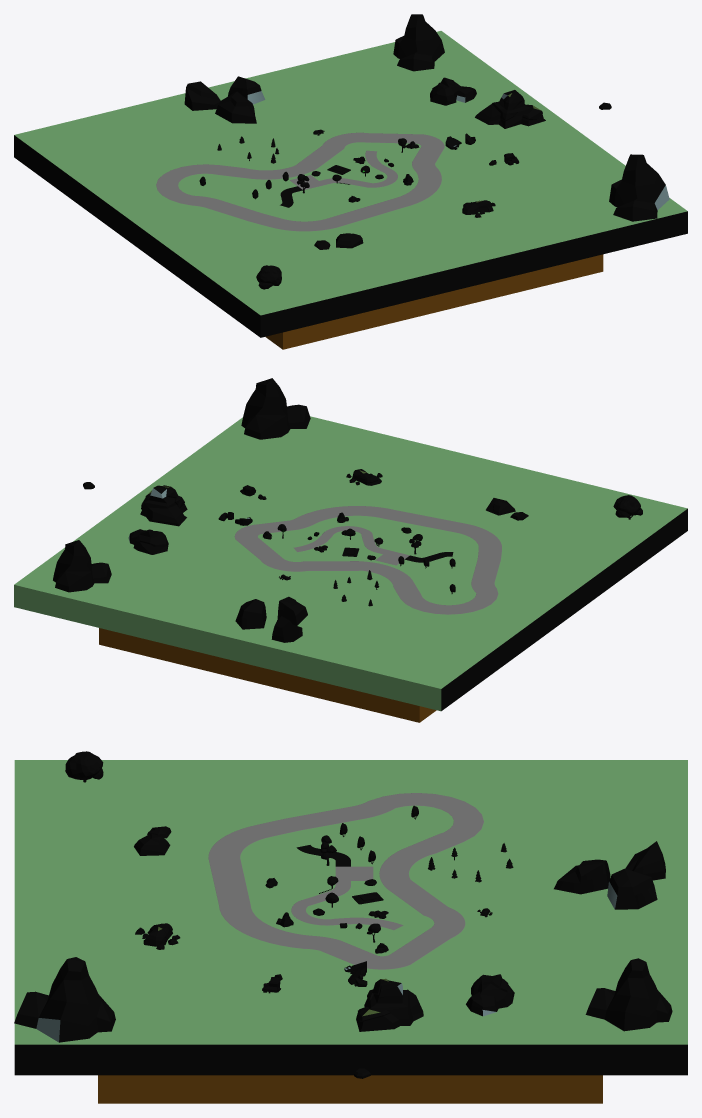
File: raceTrack.glb
3 renders of one model, top to bottom at view 1: azimuth 30°, elevation 25°; view 2: azimuth 150°, elevation 25°; view 3: azimuth 270°, elevation 25°, orthographic. The views are drawn at different scales.
Visible parts, largest first — view 1: Grass_Baked, racetrack_Baked, LowerGround_Baked, stone_7.003_Baked, stone_with_moss_4.001_Baked, stone_7.002_Baked, stone_with_moss_2.001_Baked, stone_with_moss_3.001_Baked, pits_Baked; view 2: Grass_Baked, racetrack_Baked, LowerGround_Baked, stone_7.003_Baked, stone_7.002_Baked, stone_with_moss_4.001_Baked, stone_with_moss_2.001_Baked, stone_with_moss_3.001_Baked, pits_Baked; view 3: Grass_Baked, LowerGround_Baked, racetrack_Baked, stone_7.003_Baked, stone_with_moss_4.001_Baked, stone_7.002_Baked, stone_with_moss_2.001_Baked, stone_with_moss_3.001_Baked, pits_Baked, tree3_Icosphere.007_Baked, stone_with_moss_5.001_Baked, stone_with_moss_6.001_Baked (+1 smaller).
Boxes of the visible parts, x1,y1,x2,y2 form: Grass_Baked: (14, 31, 687, 337); racetrack_Baked: (156, 132, 444, 231); LowerGround_Baked: (265, 254, 603, 349); stone_7.003_Baked: (609, 154, 669, 221); stone_with_moss_4.001_Baked: (184, 76, 265, 123); stone_7.002_Baked: (393, 14, 444, 71); stone_with_moss_2.001_Baked: (475, 90, 545, 128); stone_with_moss_3.001_Baked: (430, 77, 476, 105); pits_Baked: (319, 150, 397, 187); Grass_Baked: (14, 416, 687, 711); racetrack_Baked: (234, 506, 501, 614); LowerGround_Baked: (99, 628, 436, 722); stone_7.003_Baked: (241, 378, 310, 439); stone_7.002_Baked: (53, 540, 111, 592); stone_with_moss_4.001_Baked: (235, 596, 307, 642); stone_with_moss_2.001_Baked: (140, 485, 187, 526); stone_with_moss_3.001_Baked: (128, 529, 168, 554); pits_Baked: (293, 526, 388, 554); Grass_Baked: (14, 760, 687, 1075); LowerGround_Baked: (98, 1075, 602, 1103); racetrack_Baked: (208, 793, 483, 969); stone_7.003_Baked: (14, 957, 115, 1042); stone_with_moss_4.001_Baked: (554, 841, 665, 909); stone_7.002_Baked: (585, 958, 672, 1031); stone_with_moss_2.001_Baked: (356, 978, 423, 1031); stone_with_moss_3.001_Baked: (466, 974, 514, 1016); pits_Baked: (291, 881, 403, 930); tree3_Icosphere.007_Baked: (65, 751, 103, 779); stone_with_moss_5.001_Baked: (134, 826, 171, 855); stone_with_moss_6.001_Baked: (135, 923, 180, 949).
Bounding box in the file's own units: 22349 × 5243 × 20021.
Materials: 1 (1 with a texture image).
